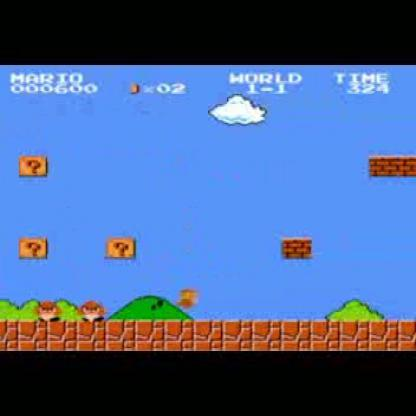Goomba: (30, 296, 66, 323), (77, 298, 109, 323)
